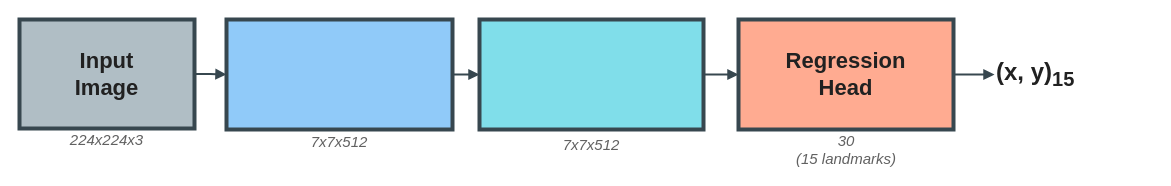
Image size: 1171x186. Some labels were removed from this diagram. Here are the shapes that lost their labels. From the top down, the centre of each, then its label:
point (339, 74): ResNet-18 Backbone Convolutional Layers
point (591, 74): Coordinate Attention
